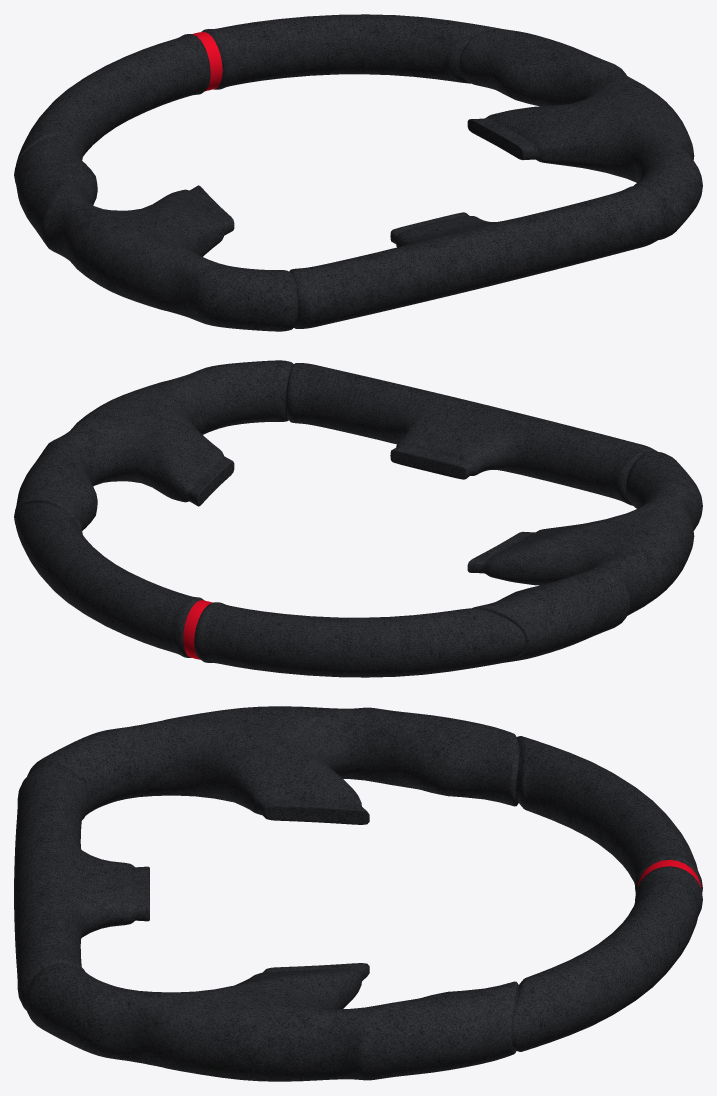
The model's file is alcantaraRim.glb.
The picture shows the model from 3 angles, top to bottom: view 1: azimuth 30°, elevation 25°; view 2: azimuth 150°, elevation 25°; view 3: azimuth 270°, elevation 25°; orthographic projection. The views are drawn at different scales.
Visible parts, largest first — view 1: Circle.003, Circle.004; view 2: Circle.003, Circle.004; view 3: Circle.003.
Boxes of the visible parts, x1,y1,x2,y2 form: Circle.003: [14, 14, 702, 331]; Circle.004: [192, 31, 222, 91]; Circle.003: [14, 360, 702, 677]; Circle.004: [183, 600, 212, 659]; Circle.003: [14, 706, 702, 1081].
Size of the model in its own units: 333 by 33.05 by 293.
2 materials, 1 textured.
